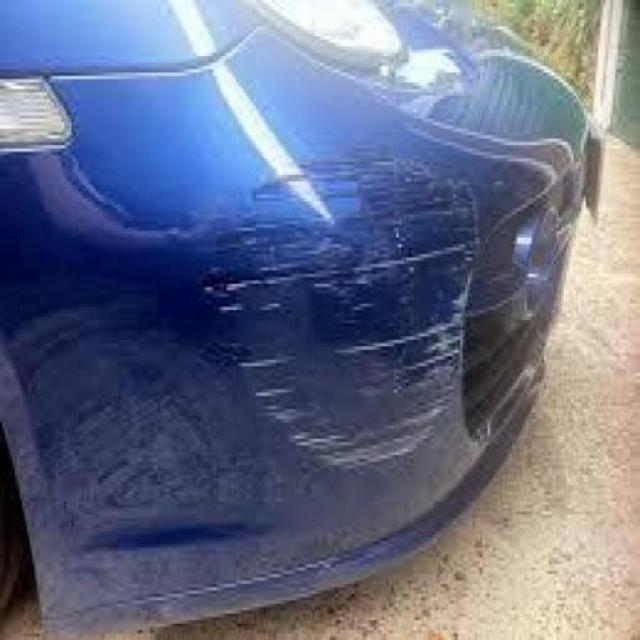rub: (204, 155, 480, 472)
